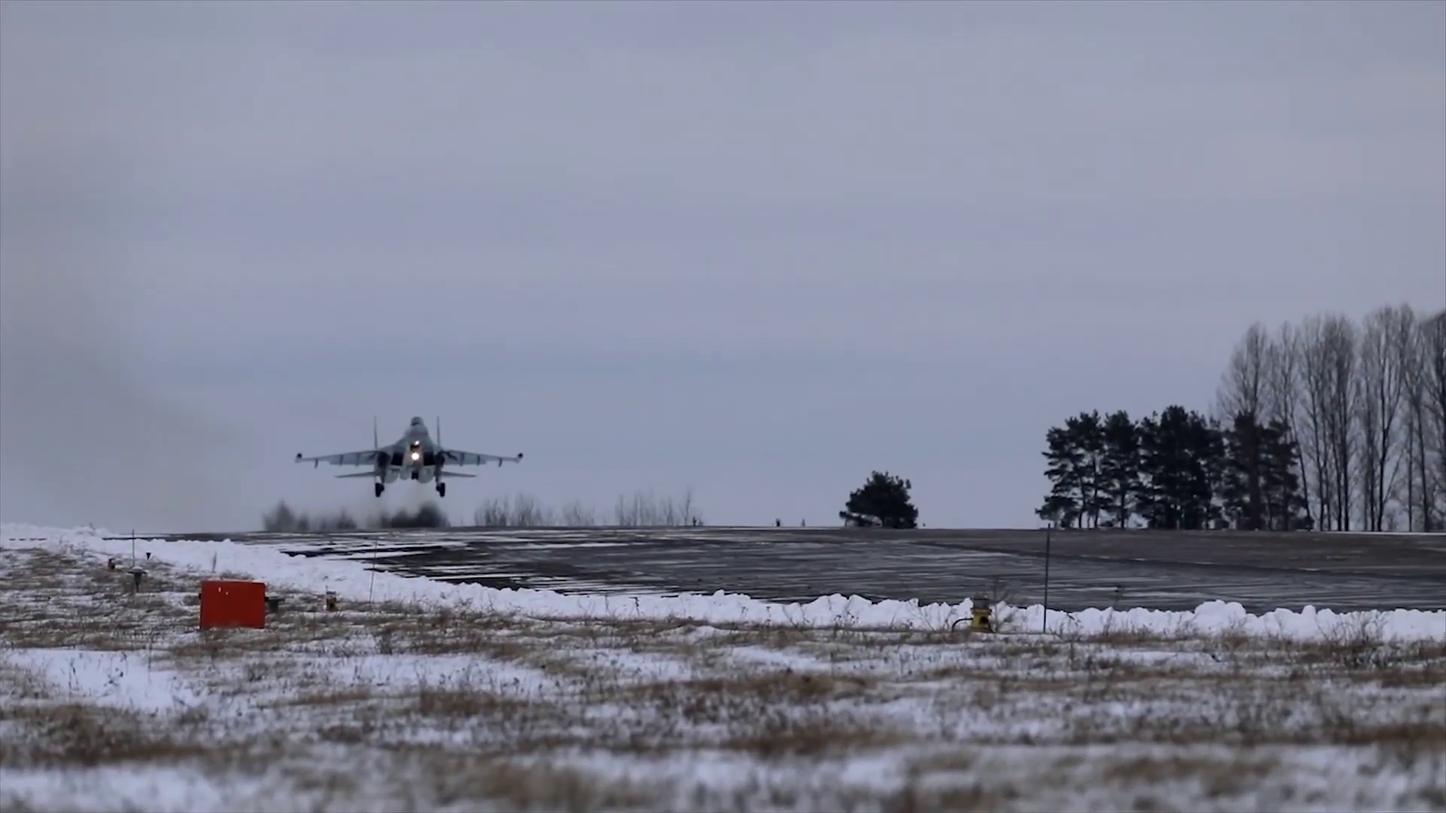Su35: (300, 413, 519, 497)
